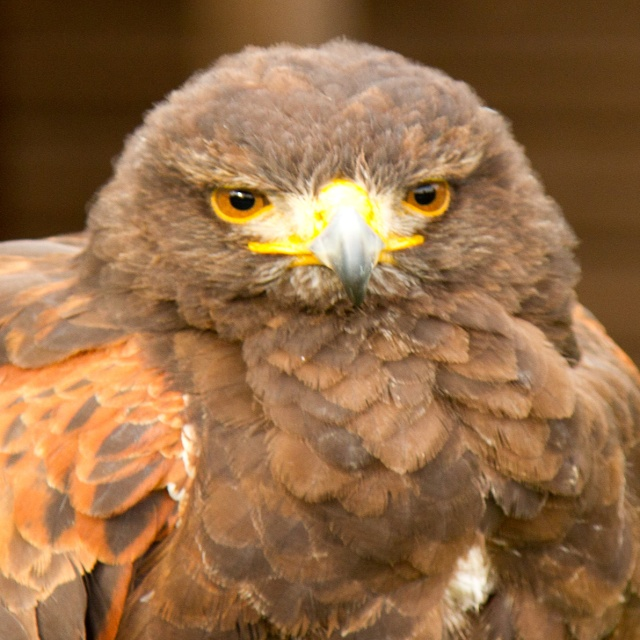Owl: (0, 33, 640, 640)
